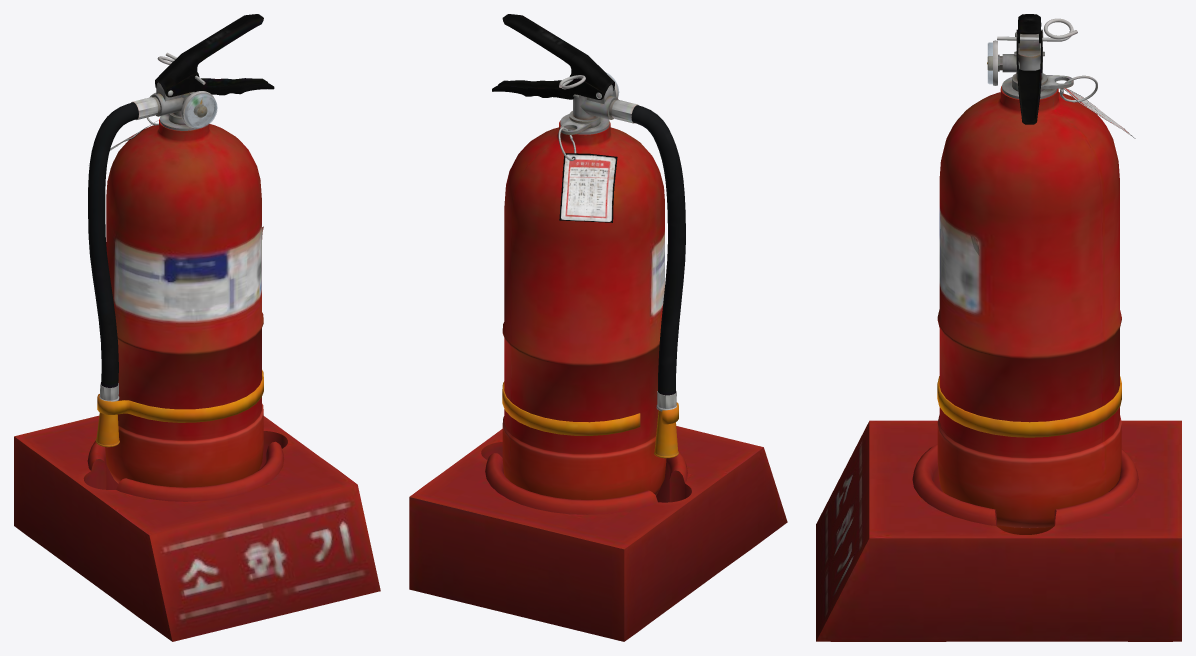
Rendered from korean_fire_extinguisher_01.gltf.
3 renders of one model, left to right at view 1: azimuth 30°, elevation 25°; view 2: azimuth 150°, elevation 25°; view 3: azimuth 270°, elevation 25°, orthographic. The views are drawn at different scales.
Parts seen in each view (by area): view 1: korean_fire_extinguisher_01; view 2: korean_fire_extinguisher_01; view 3: korean_fire_extinguisher_01.
Part boxes in pixels (x1,y1,x2,y2): korean_fire_extinguisher_01: (14,14,380,641); korean_fire_extinguisher_01: (409,14,787,641); korean_fire_extinguisher_01: (816,14,1181,641).
Bounding box in the file's own units: 0.28 × 0.6593 × 0.3674.
Materials: 3 (3 with a texture image).
